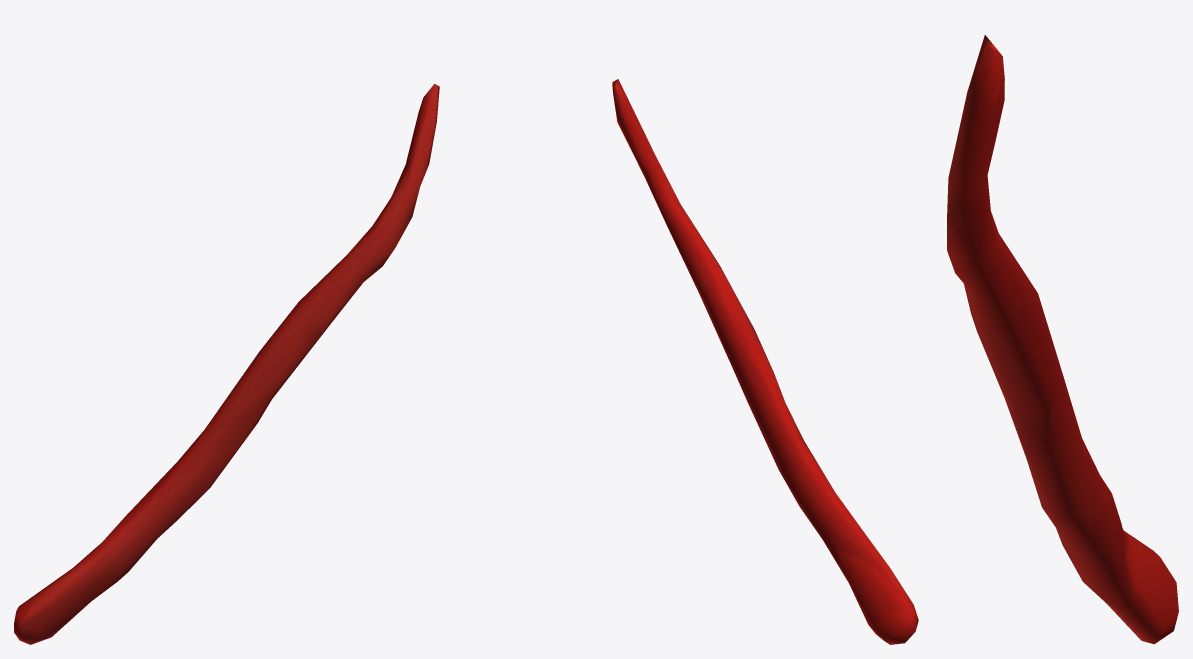
Rendered from Face_Mucle_03.glb.
3 renders of one model, left to right at view 1: azimuth 30°, elevation 25°; view 2: azimuth 150°, elevation 25°; view 3: azimuth 270°, elevation 25°, orthographic. The views are drawn at different scales.
Visible parts, largest first — view 1: Face_Mucle_03; view 2: Face_Mucle_03; view 3: Face_Mucle_03.
Part boxes in pixels (x1,y1,x2,y2): Face_Mucle_03: (14,84,439,644); Face_Mucle_03: (612,79,918,644); Face_Mucle_03: (947,35,1178,644).
Bounding box in the file's own units: 0.2637 × 0.3079 × 0.0644.
1 material, 1 textured.
